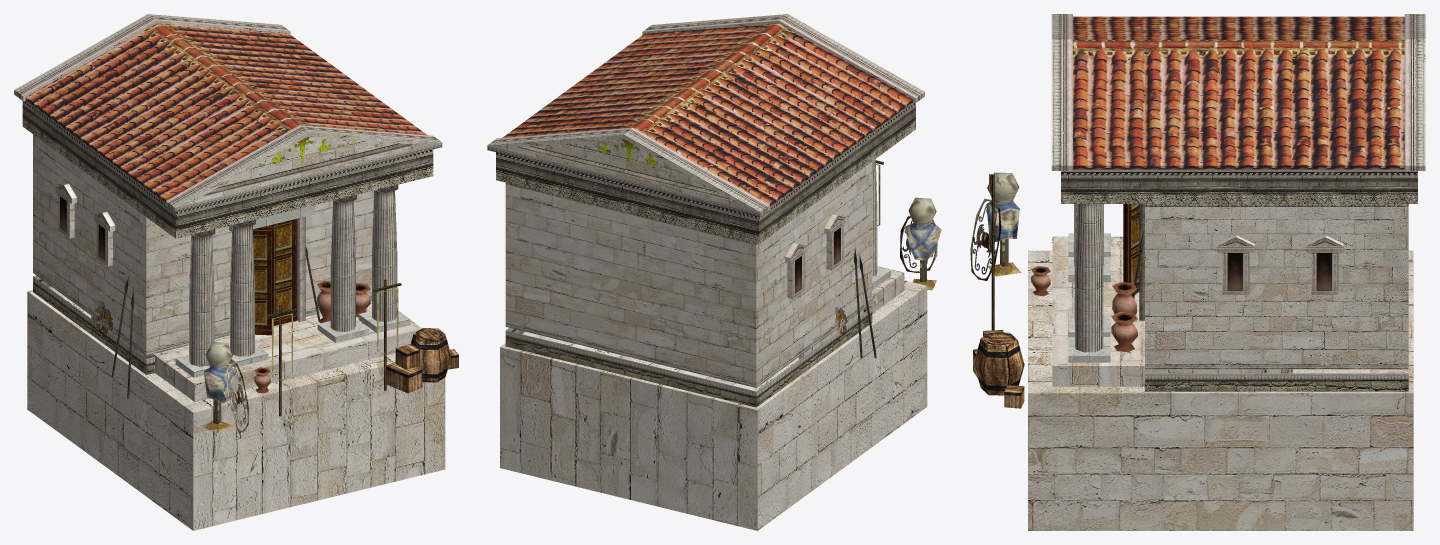
Rendered from kart_embassy_italiote.dae.
3 views of the same model, side by side, from view 1: azimuth 30°, elevation 25°; view 2: azimuth 150°, elevation 25°; view 3: azimuth 270°, elevation 25° (orthographic). The views are drawn at different scales.
Parts seen in each view (by area): view 1: Temple_001; view 2: Temple_001; view 3: Temple_001.
Boxes of the visible parts, <box> form: Temple_001: <box>14,14,458,530</box>; Temple_001: <box>487,14,941,530</box>; Temple_001: <box>970,14,1425,530</box>.
Bounding box in the file's own units: 11.64 × 14.54 × 14.79.
